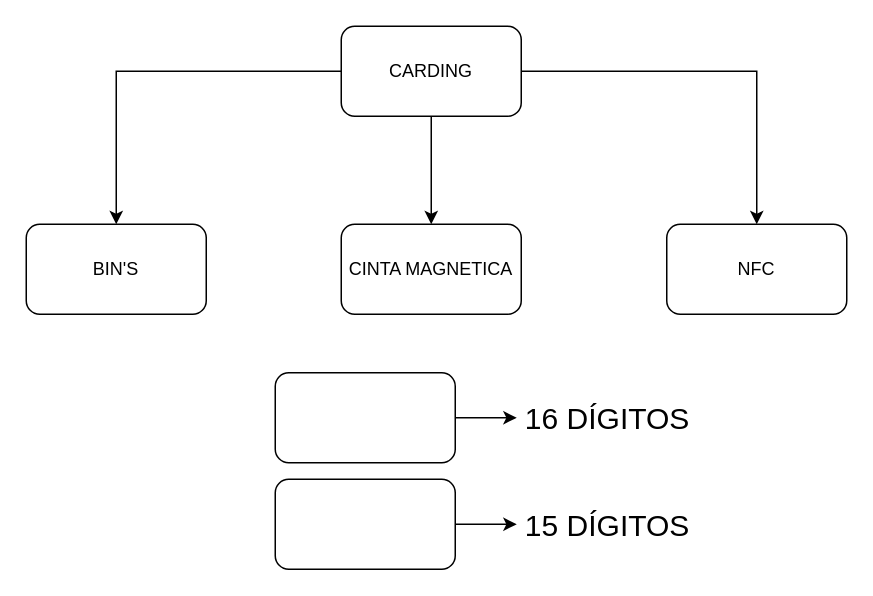
Image size: 873x596. Some labels were removed from this diagram. Each missing label, with the centre of its shape:
AMERICAN EXPRESS: [364,523]
VISA MASTERCARD: [364,417]
